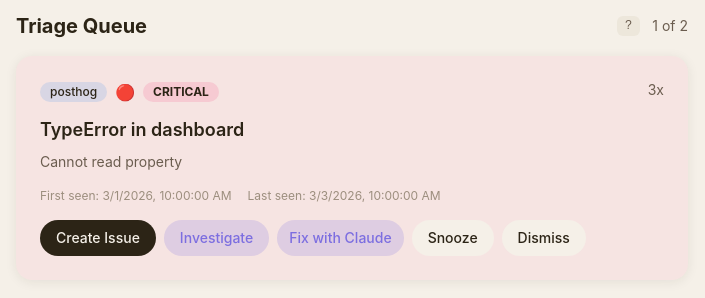
Test: TriagePage › advances to next item after dismiss
The image size is (705, 298).
Expected: the heading "TypeError in dashboard" is shown, [40,119,244,140]
Click the button "Dismiss": (544, 238) [502,220,586,256]
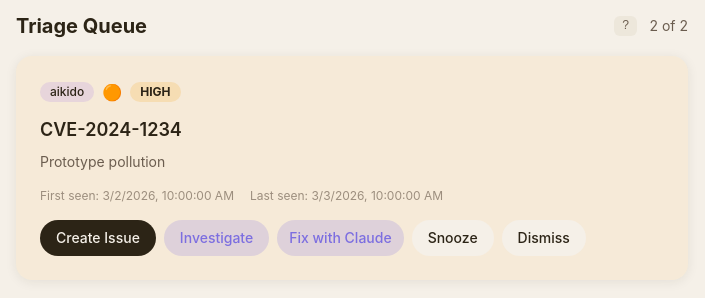
Now the heading "CVE-2024-1234" is shown, box [40,119,182,140]
